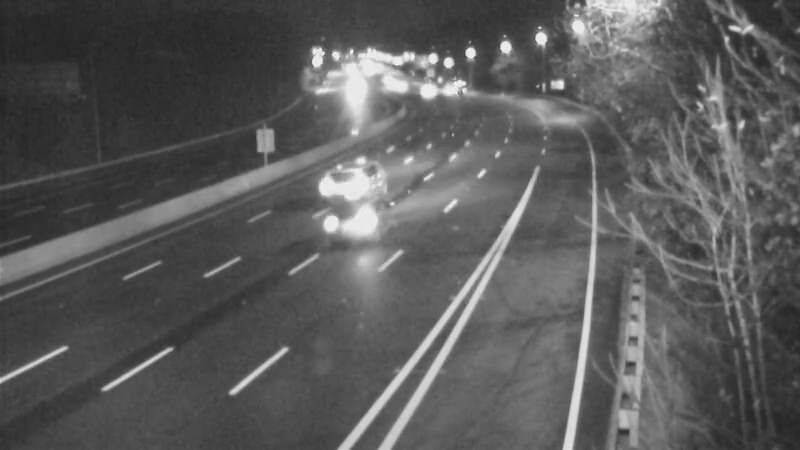vehicle: (300, 143, 380, 223), (314, 184, 394, 264), (431, 59, 481, 109), (403, 64, 453, 114), (326, 68, 376, 118)
